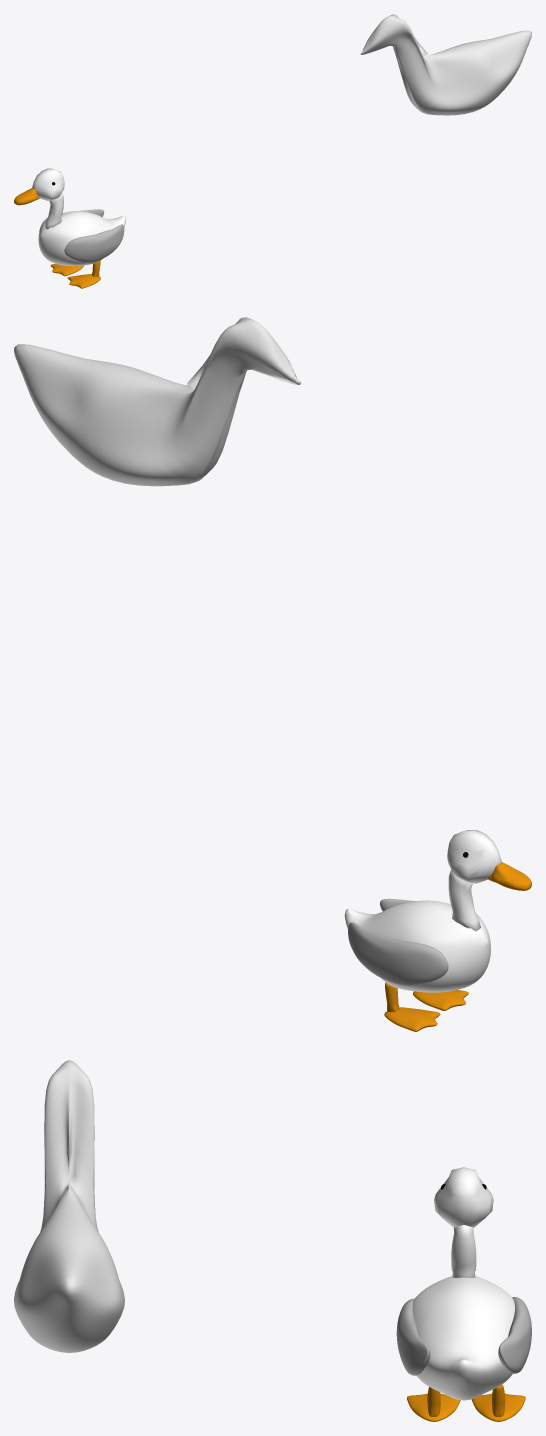
The model's file is Duck.fbx.
3 renders of one model, top to bottom at view 1: azimuth 30°, elevation 25°; view 2: azimuth 150°, elevation 25°; view 3: azimuth 270°, elevation 25°, orthographic. The views are drawn at different scales.
Visible parts, largest first — view 1: Duck prototype, Body, Left wing, Head, Neck, Left foot; view 2: Duck prototype, Body, Right wing, Head, Neck, Right foot; view 3: Duck prototype, Body, Head, Right wing, Left wing, Neck, Right foot, Left foot.
Boxes of the visible parts, box(x1,y1,x2,y2) form: Duck prototype: box(360, 14, 531, 115); Body: box(38, 211, 125, 266); Left wing: box(64, 224, 124, 262); Head: box(32, 168, 64, 200); Neck: box(44, 192, 63, 229); Left foot: box(67, 274, 100, 288); Duck prototype: box(14, 317, 301, 486); Body: box(344, 900, 490, 992); Right wing: box(348, 922, 448, 985); Head: box(447, 830, 501, 883); Neck: box(448, 869, 480, 931); Right foot: box(384, 1007, 440, 1031); Duck prototype: box(14, 1060, 124, 1352); Body: box(412, 1276, 514, 1400); Head: box(434, 1167, 493, 1227); Right wing: box(498, 1297, 531, 1373); Left wing: box(396, 1298, 430, 1375); Neck: box(451, 1225, 476, 1277); Right foot: box(471, 1393, 525, 1421); Left foot: box(407, 1393, 460, 1421).
Bounding box in the file's own units: 1261 × 837 × 723.
